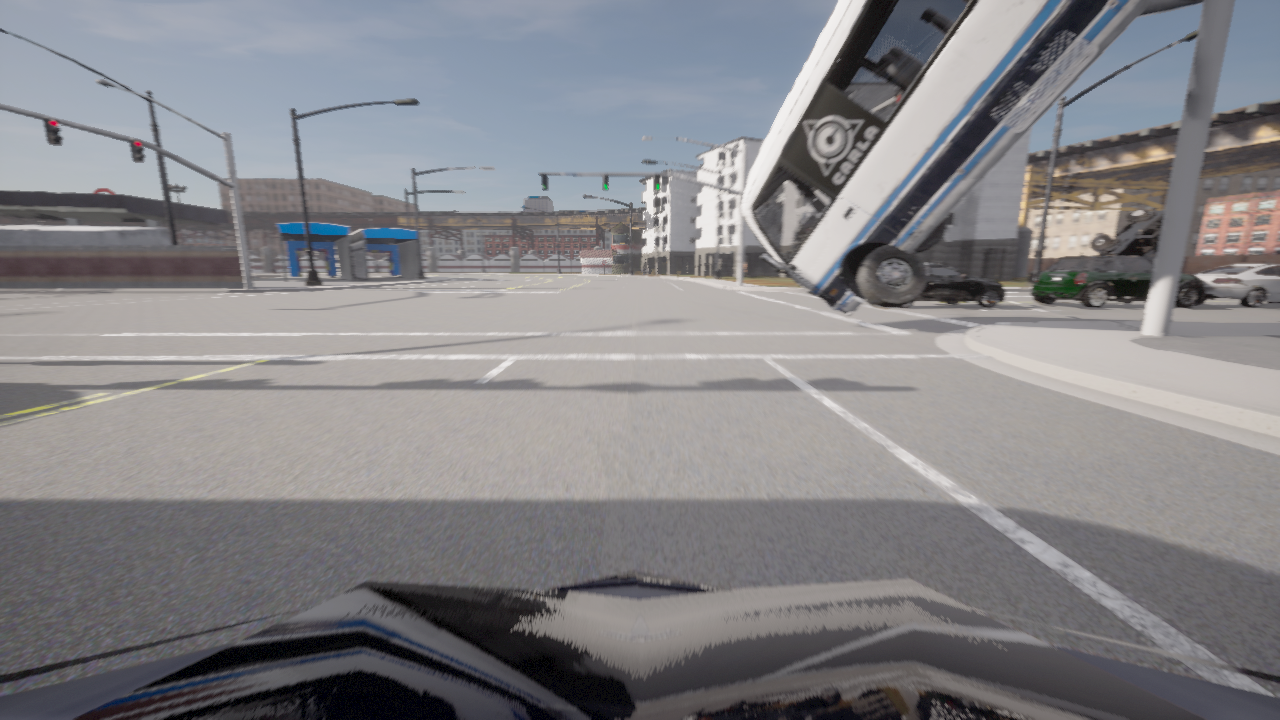cyclist: (0, 569, 1279, 719), (1031, 255, 1204, 307), (866, 263, 1004, 308), (1194, 262, 1279, 307), (1090, 207, 1163, 256)
